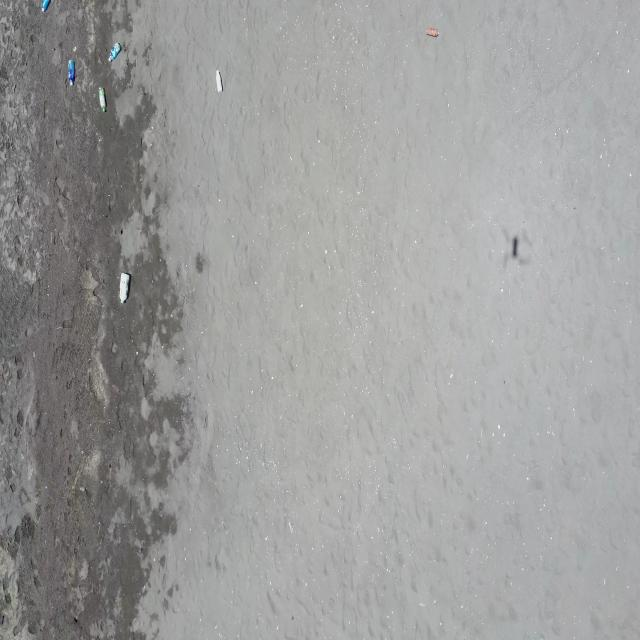plastic-bottle: (118, 271, 130, 304), (108, 39, 123, 63), (99, 87, 108, 115), (67, 58, 75, 88), (216, 69, 225, 93), (41, 0, 51, 13)
